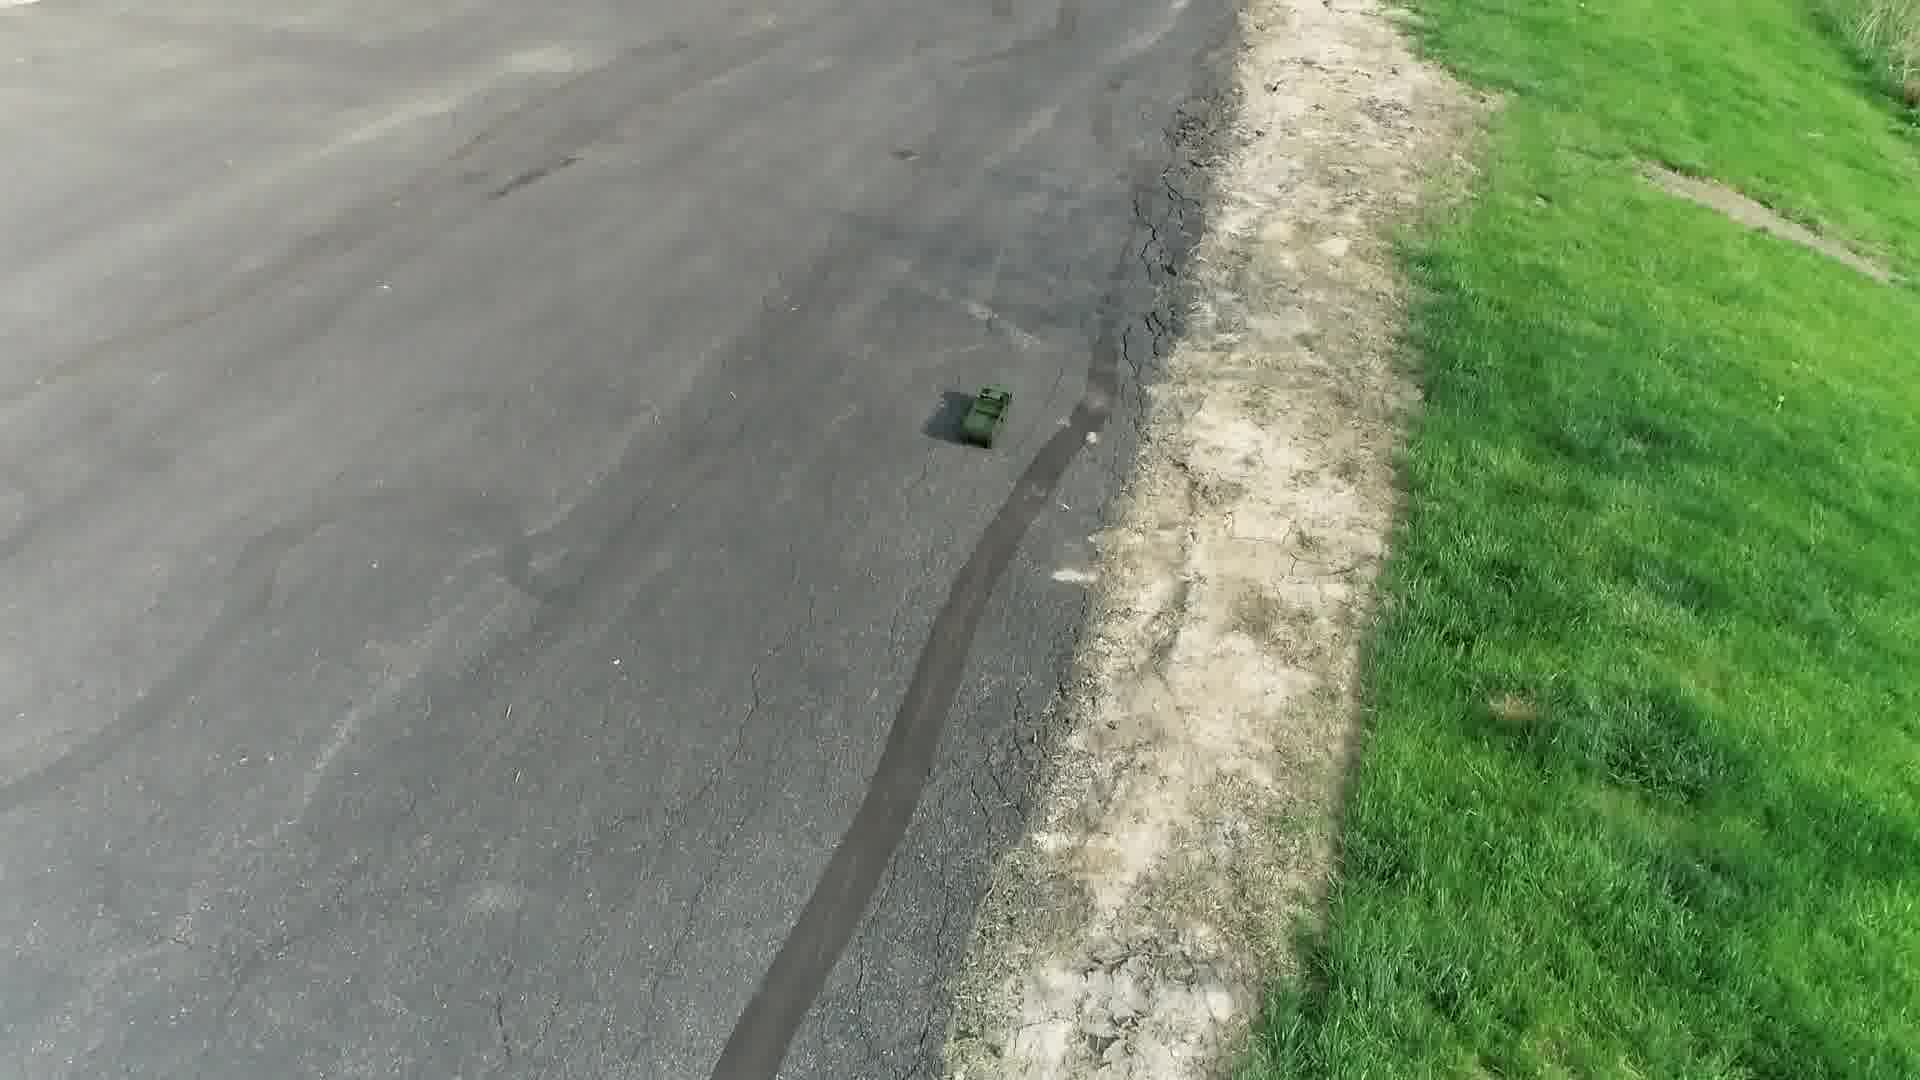transporter9: (949, 381, 1015, 454)
